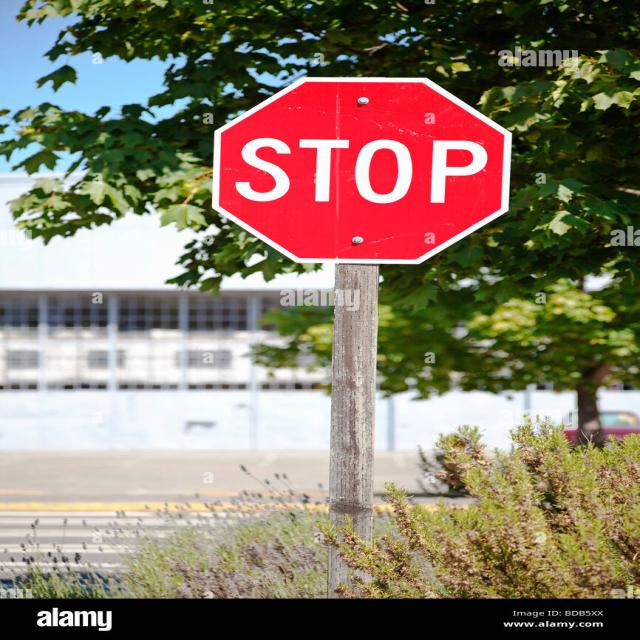STOP: (213, 78, 511, 262)
